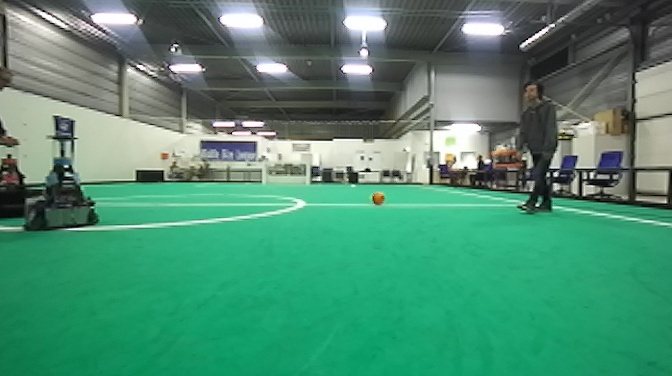ball: (367, 189, 389, 207)
goal: (261, 158, 309, 187)
goalpost: (260, 158, 267, 185), (305, 162, 309, 187)
human: (508, 77, 562, 218)
robot: (21, 105, 104, 235), (1, 129, 33, 225)
